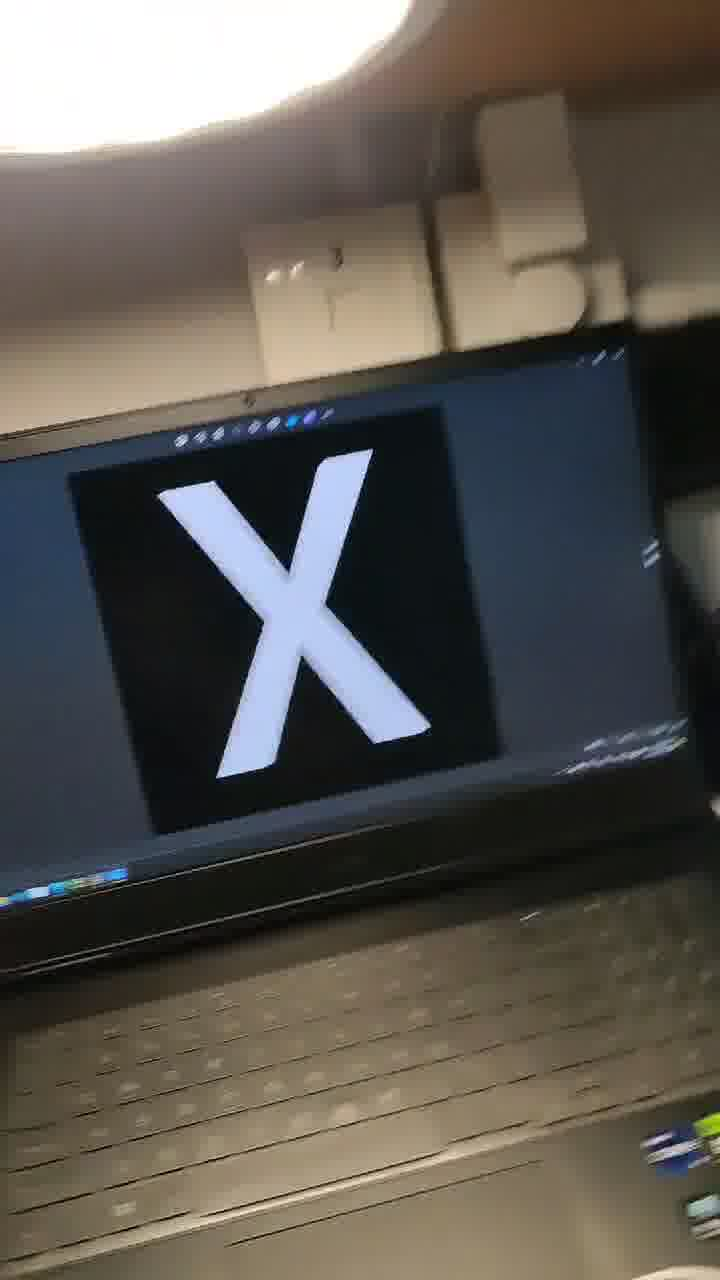X: (137, 388, 492, 817)
